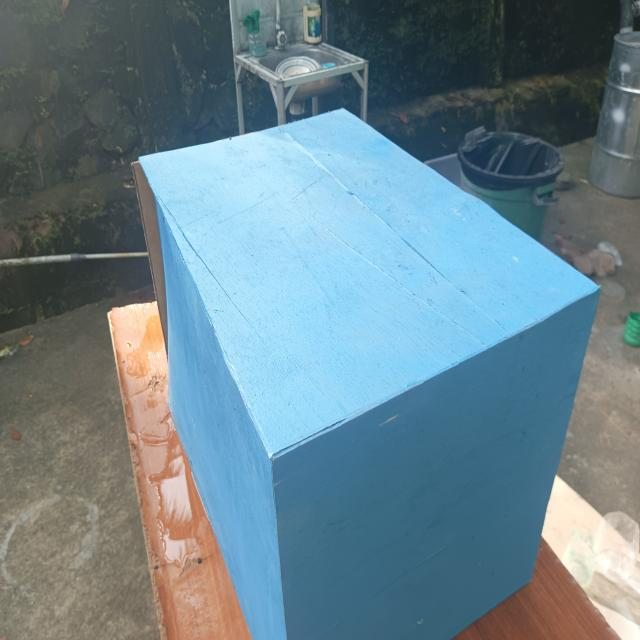blue_box: (135, 95, 593, 640)
